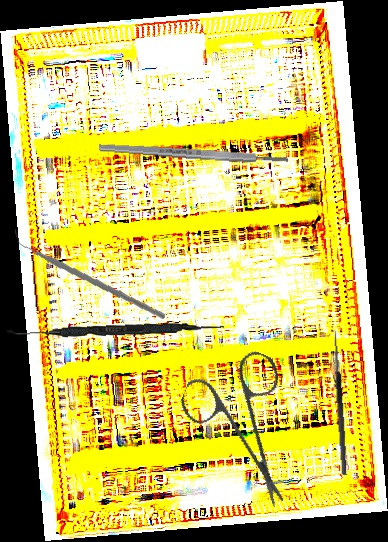Chopper: (14, 216, 166, 331)
Hook Surgical: (324, 330, 349, 476)
Iris Scissors: (157, 332, 331, 509)
Scalpel Handle: (98, 141, 289, 166)
Spatula Surgical: (6, 318, 225, 342)
